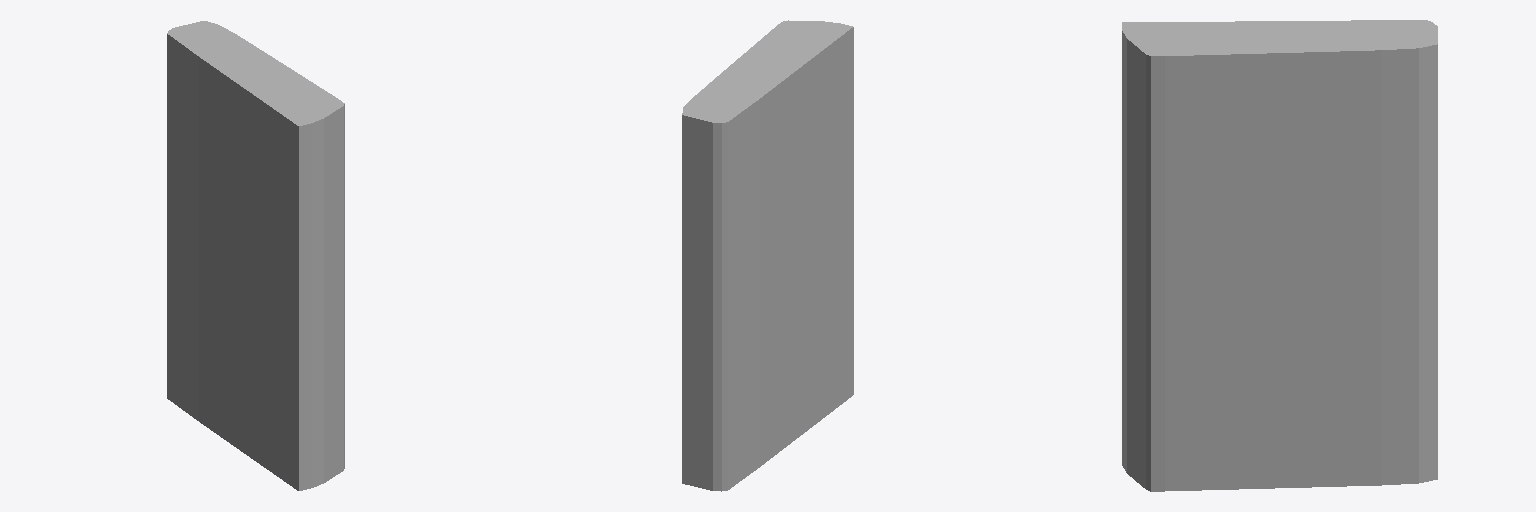
The robot description file, URDF, robot "root":
<robot name="root">
  <link name="link_459e81b89a4b2fd7f29c5890b07f3a65_convex_piece_0">
    <inertial>
      <origin rpy="0 0 0" xyz="0 0 0"/>
      <mass value="2.61E-05"/>
      <inertia ixx="2.04E-09" ixy="1.10E-11" ixz="1.83E-10" iyy="2.44E-09" iyz="-5.98E-09" izz="1.23E-10"/>
    </inertial>
    <visual>
      <origin rpy="0 0 0" xyz="0 0 0"/>
      <geometry>
        <mesh filename="459e81b89a4b2fd7f29c5890b07f3a65_convex_piece_0.obj" scale="1.0000E+00"/>
      </geometry>
      <material name="">
        <color rgba="7.50E-01 7.50E-01 7.50E-01 1"/>
      </material>
    </visual>
    <collision>
      <origin rpy="0 0 0" xyz="0 0 0"/>
      <geometry>
        <mesh filename="459e81b89a4b2fd7f29c5890b07f3a65_convex_piece_0.obj" scale="1.0000E+00"/>
      </geometry>
    </collision>
  </link>
</robot>

--- Facts derived from the render (not from the file) ---
3 views of the same robot in one strip: view 1: azimuth 30°, elevation 25°; view 2: azimuth 150°, elevation 25°; view 3: azimuth 270°, elevation 25° (orthographic).
Robot: root — 1 links, 0 joints (none); root link link_459e81b89a4b2fd7f29c5890b07f3a65_convex_piece_0; default pose: all joints at 0.
Visible links, largest first — view 1: link_459e81b89a4b2fd7f29c5890b07f3a65_convex_piece_0; view 2: link_459e81b89a4b2fd7f29c5890b07f3a65_convex_piece_0; view 3: link_459e81b89a4b2fd7f29c5890b07f3a65_convex_piece_0.
Link boxes in pixels (bbox=[...]): link_459e81b89a4b2fd7f29c5890b07f3a65_convex_piece_0: bbox=[167, 21, 344, 490]; link_459e81b89a4b2fd7f29c5890b07f3a65_convex_piece_0: bbox=[682, 20, 853, 491]; link_459e81b89a4b2fd7f29c5890b07f3a65_convex_piece_0: bbox=[1122, 20, 1437, 491].
Bounding box of the posed robot: 0.0122 × 0.0456 × 0.0694 m (x, y, z).
1 mesh visuals loaded from 1 distinct referenced files (1 OBJ).